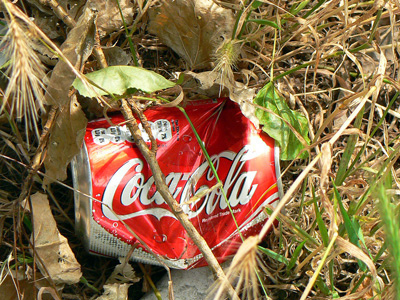litter: (69, 94, 284, 268)
